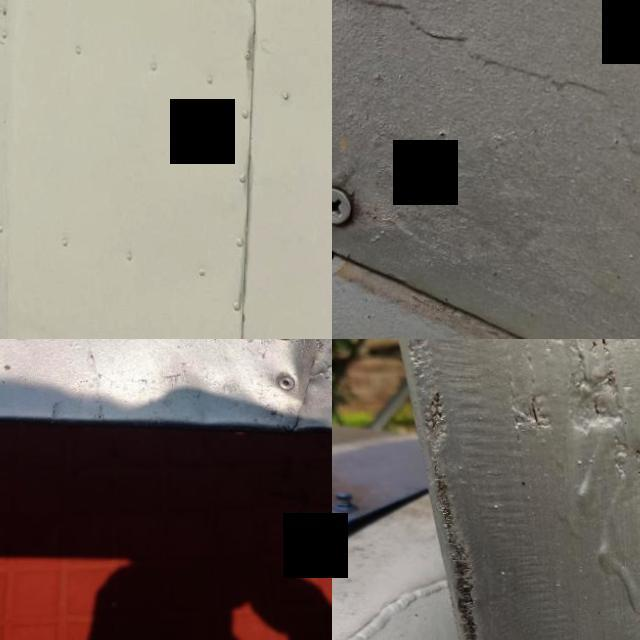Crack: (332, 217, 364, 338), (274, 402, 303, 439)
